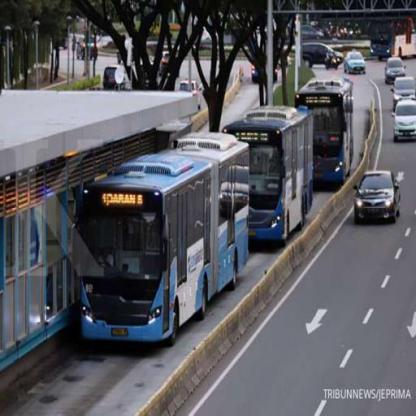bus: (76, 135, 249, 342), (238, 106, 318, 244), (302, 76, 358, 188)
car: (352, 164, 403, 228), (390, 99, 415, 142), (381, 58, 408, 84), (390, 76, 415, 104), (344, 50, 367, 75)
